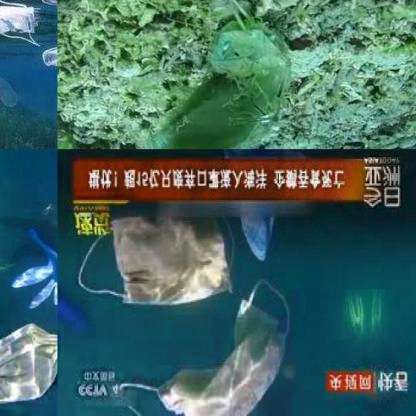Mask: (105, 0, 290, 148), (115, 278, 291, 414), (78, 203, 236, 307), (0, 323, 57, 415), (0, 3, 43, 50)
glove: (14, 225, 57, 314), (0, 14, 19, 147), (40, 10, 57, 148)
